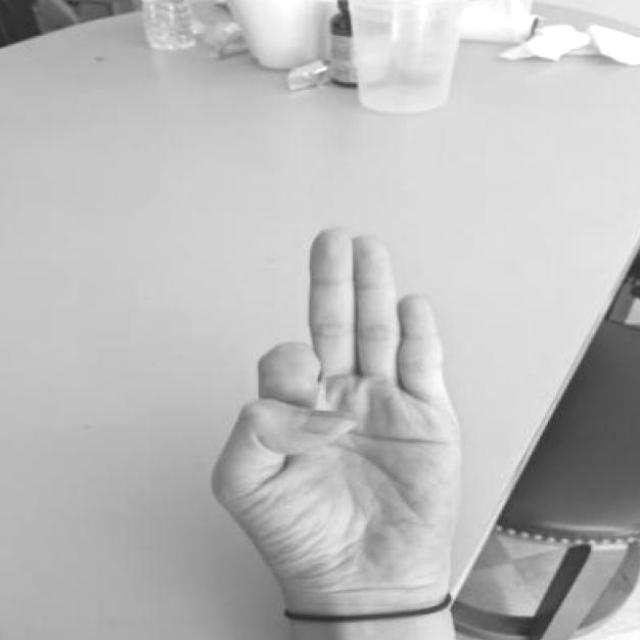F: (201, 216, 491, 632)
